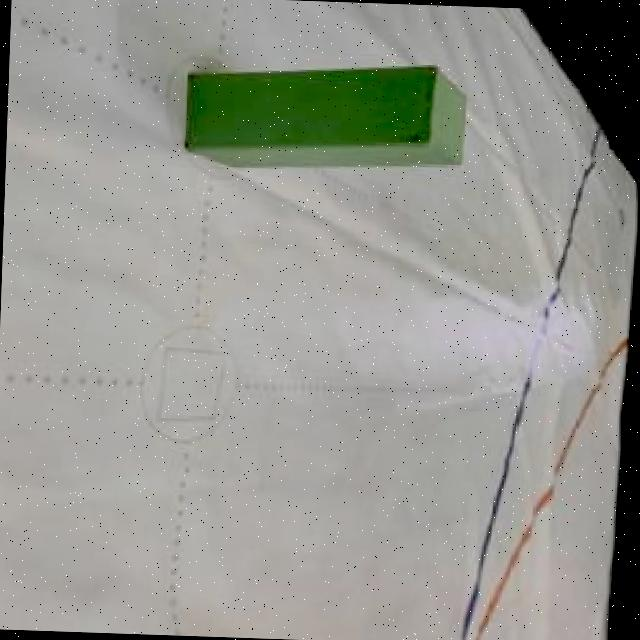greenbox: (181, 54, 474, 170)
